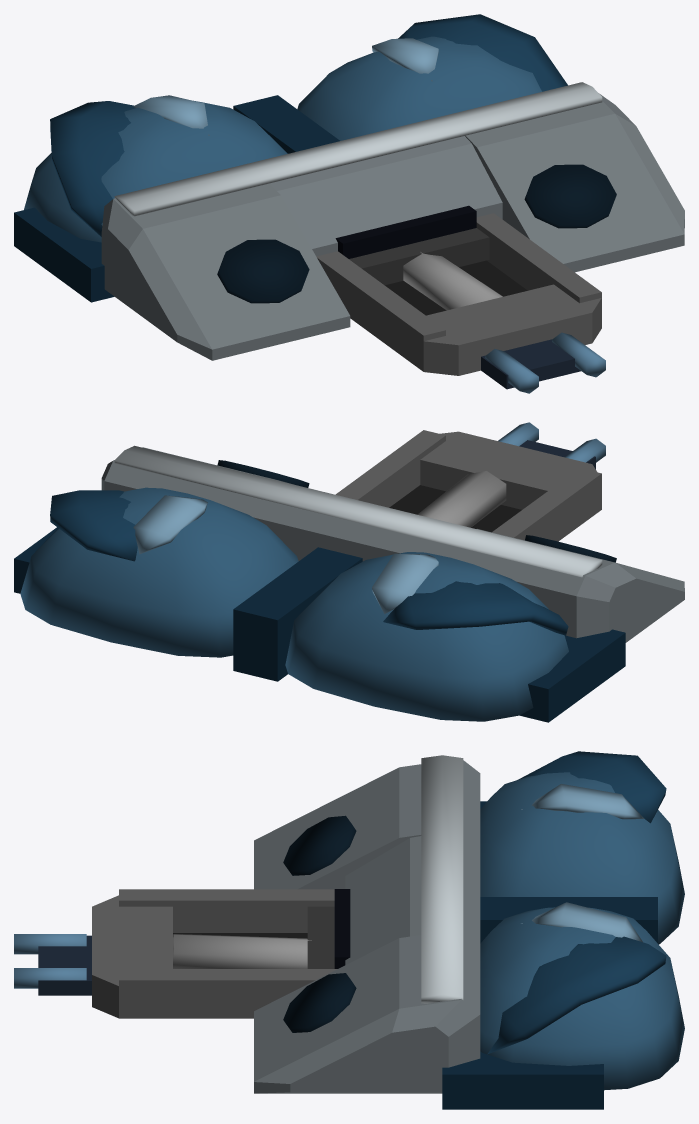
Rendered from newshc-163.glb.
3 views of the same model, one above another, from view 1: azimuth 30°, elevation 25°; view 2: azimuth 150°, elevation 25°; view 3: azimuth 270°, elevation 25° (orthographic). The views are drawn at different scales.
Visible parts, largest first — view 1: newshc-163; view 2: newshc-163; view 3: newshc-163.
Part boxes in pixels (x1,y1,x2,y2): newshc-163: (14,14,684,393); newshc-163: (14,422,684,722); newshc-163: (14,751,684,1109).
Bounding box in the file's own units: 2 × 0.4168 × 2.08.
